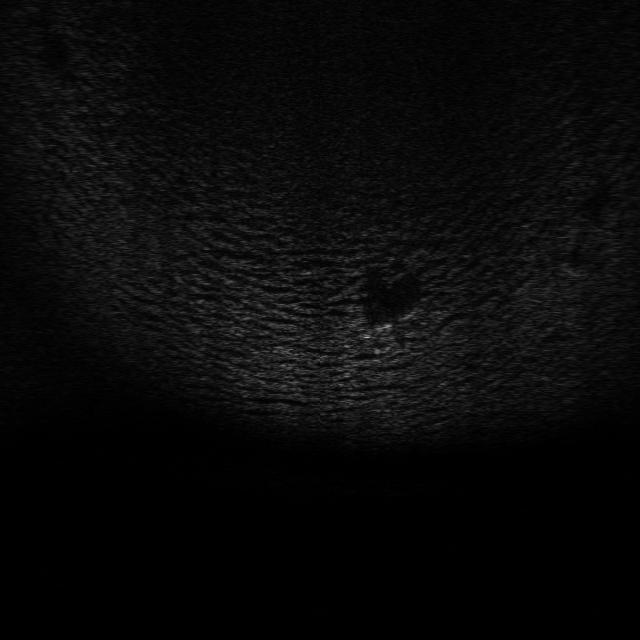plane: (354, 300, 424, 346)
